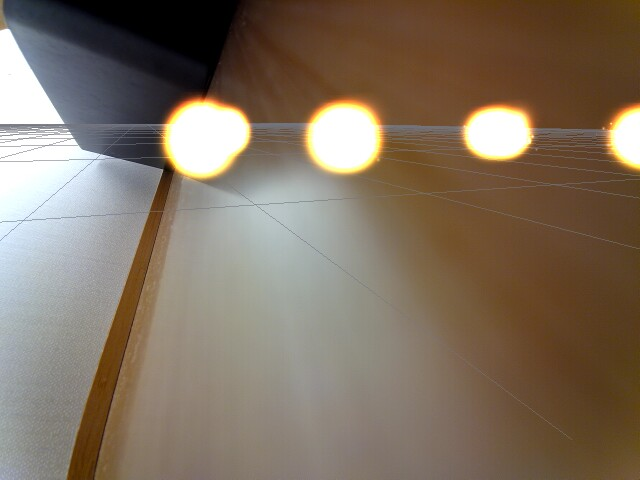firebig: (161, 90, 227, 184)
